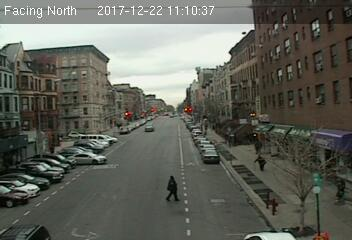car: (202, 150, 219, 163)
pedestrian: (164, 173, 182, 203)
